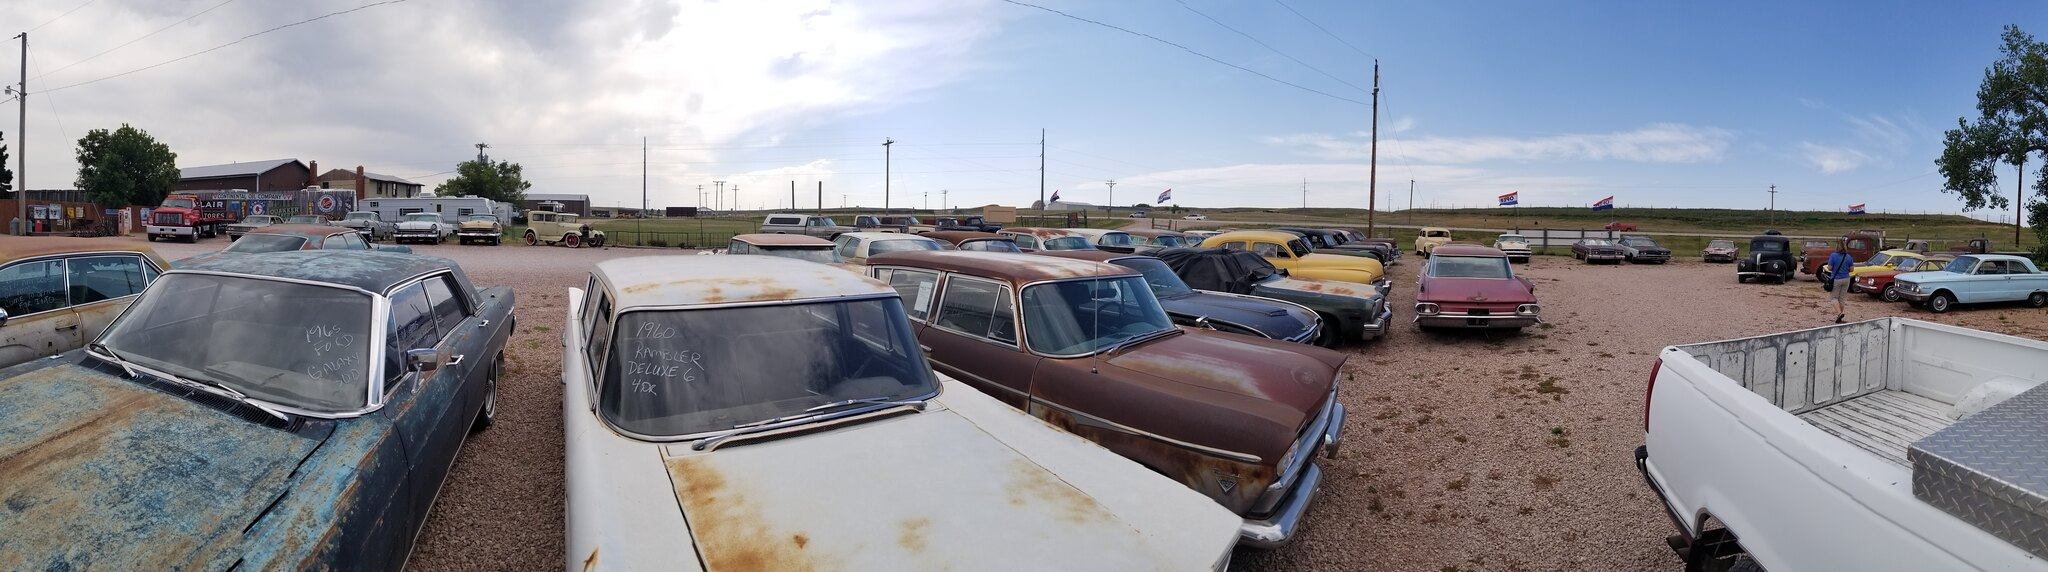Car: (541, 223, 1241, 572), (3, 208, 541, 558), (824, 239, 1337, 539), (1633, 313, 2048, 572), (5, 180, 172, 350), (1409, 235, 1545, 355), (1885, 253, 2045, 308), (1823, 244, 1981, 295), (509, 199, 610, 248), (734, 200, 839, 240), (1742, 217, 1793, 293), (1566, 232, 1618, 270), (458, 202, 498, 248), (1625, 225, 1667, 266), (1688, 231, 1740, 260)
